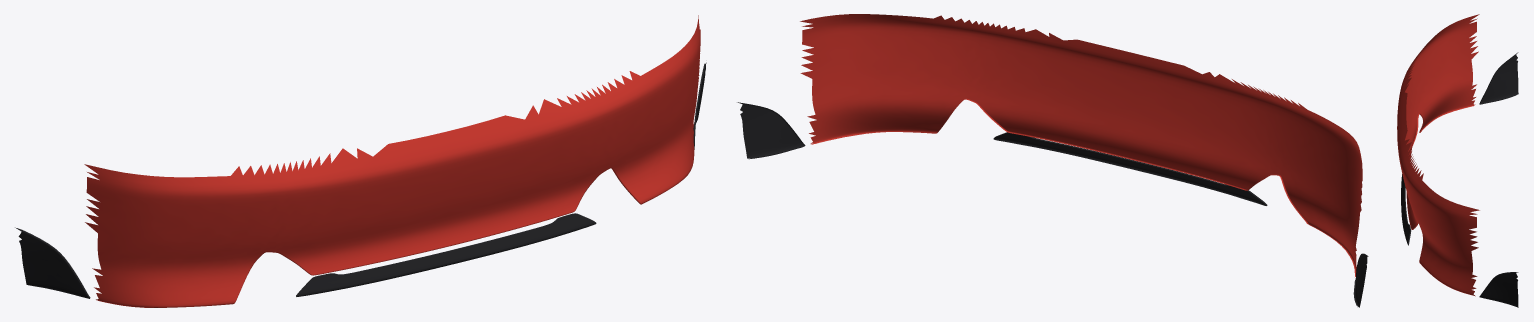
The model's file is vela_front_wide.glb.
3 views of the same model, side by side, from view 1: azimuth 30°, elevation 25°; view 2: azimuth 150°, elevation 25°; view 3: azimuth 270°, elevation 25° (orthographic). The views are drawn at different scales.
Visible parts, largest first — view 1: bumper_front.002, bumper_front_lower.001; view 2: bumper_front.002, bumper_front_lower.001; view 3: bumper_front.002, bumper_front_lower.001.
Part boxes in pixels (x1,y1,x2,y2): bumper_front.002: (84, 15, 700, 307); bumper_front_lower.001: (15, 62, 706, 298); bumper_front.002: (800, 14, 1362, 276); bumper_front_lower.001: (737, 102, 1368, 307); bumper_front.002: (1397, 14, 1479, 296); bumper_front_lower.001: (1401, 52, 1518, 307).
Size of the model in its own units: 1.91 by 0.3682 by 0.447.
